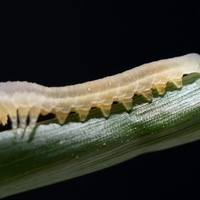insect: (0, 53, 199, 142)
